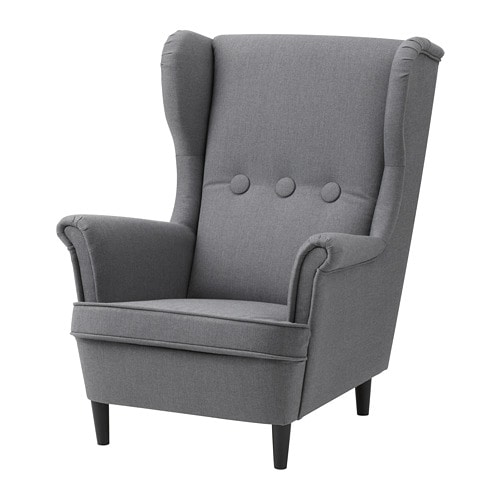chairs: (55, 27, 447, 472)
